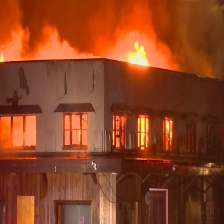fire: (136, 110, 154, 152), (127, 44, 150, 66), (164, 118, 173, 137)
smoke: (3, 1, 224, 60)
